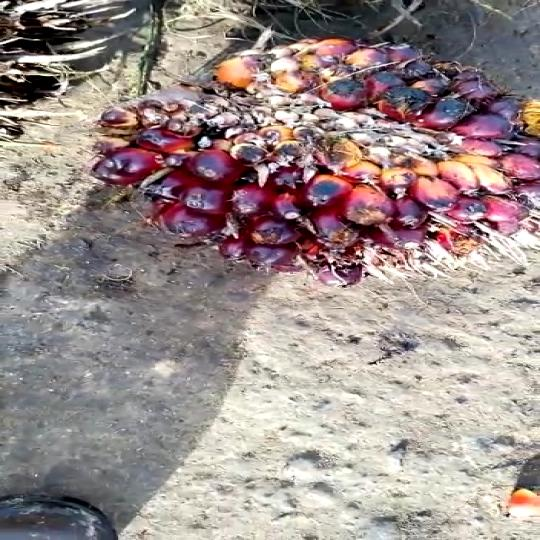masak: (102, 36, 540, 278)
